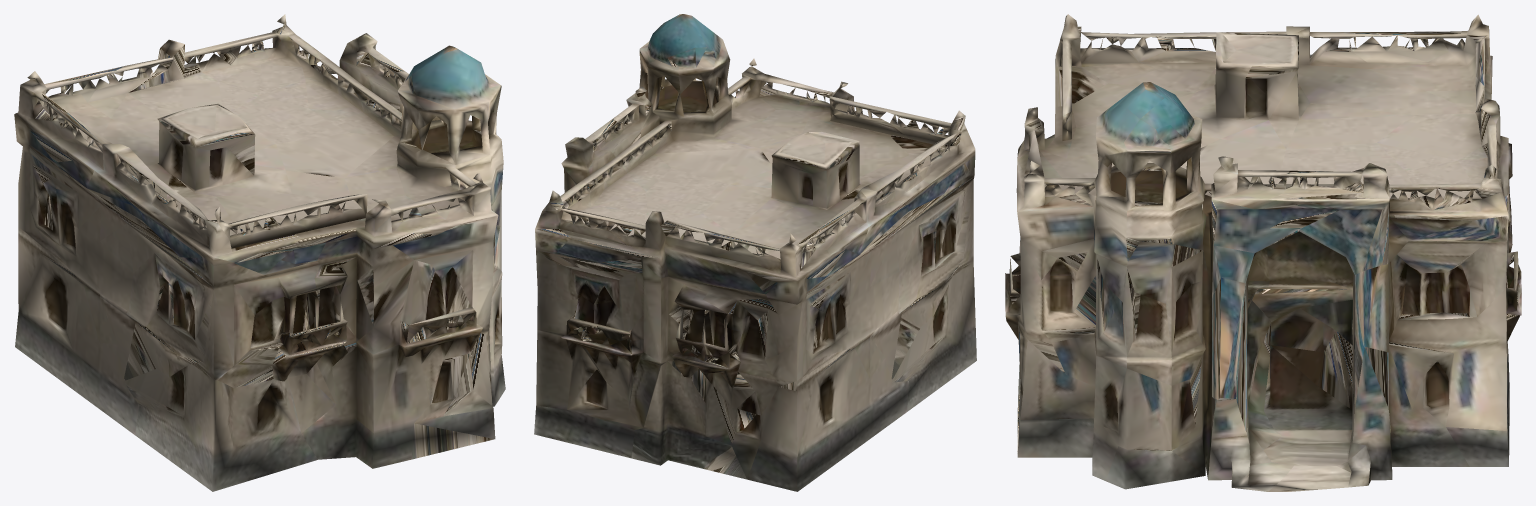
Rendered from house_noble_2.glb.
3 views of the same model, side by side, from view 1: azimuth 30°, elevation 25°; view 2: azimuth 150°, elevation 25°; view 3: azimuth 270°, elevation 25° (orthographic). The views are drawn at different scales.
Visible parts, largest first — view 1: tripo_node_f6b4daa0-9f50-4762-b463-21bb5ce32393; view 2: tripo_node_f6b4daa0-9f50-4762-b463-21bb5ce32393; view 3: tripo_node_f6b4daa0-9f50-4762-b463-21bb5ce32393.
Boxes of the visible parts, bbox=[...] form: tripo_node_f6b4daa0-9f50-4762-b463-21bb5ce32393: bbox=[14, 14, 505, 491]; tripo_node_f6b4daa0-9f50-4762-b463-21bb5ce32393: bbox=[534, 14, 976, 491]; tripo_node_f6b4daa0-9f50-4762-b463-21bb5ce32393: bbox=[1005, 14, 1521, 491].
Bounding box in the file's own units: 0.7993 × 0.8011 × 0.979.
1 material, 1 textured.
